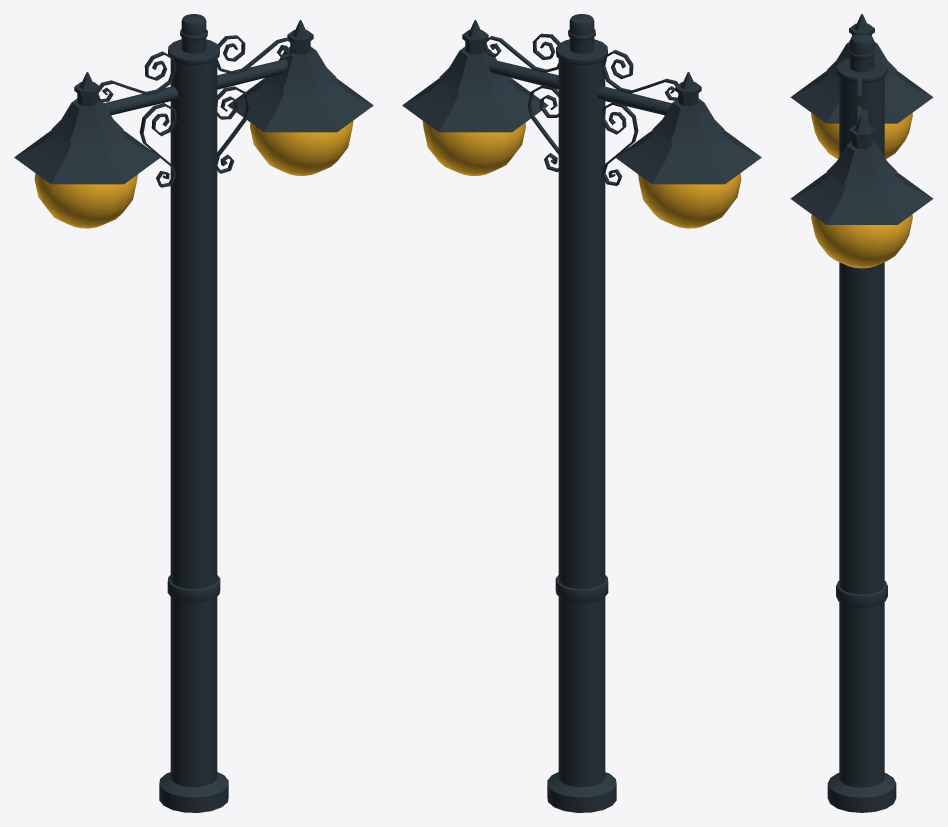
The model's file is StreetLamp2.fbx.
3 renders of one model, left to right at view 1: azimuth 30°, elevation 25°; view 2: azimuth 150°, elevation 25°; view 3: azimuth 270°, elevation 25°, orthographic. The views are drawn at different scales.
Visible parts, largest first — view 1: Streetlamp_3; view 2: Streetlamp_3; view 3: Streetlamp_3.
Boxes of the visible parts, <box> form: Streetlamp_3: <box>14,14,373,812</box>; Streetlamp_3: <box>402,14,761,812</box>; Streetlamp_3: <box>790,14,933,812</box>.
Size of the model in its own units: 170 by 393 by 66.99.
